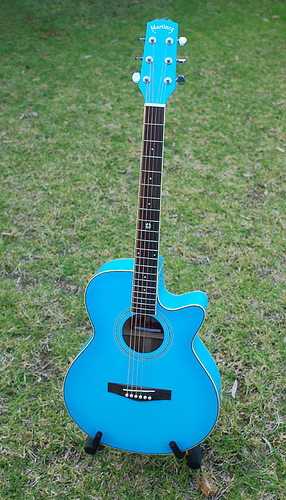guitar: (64, 18, 223, 457)
